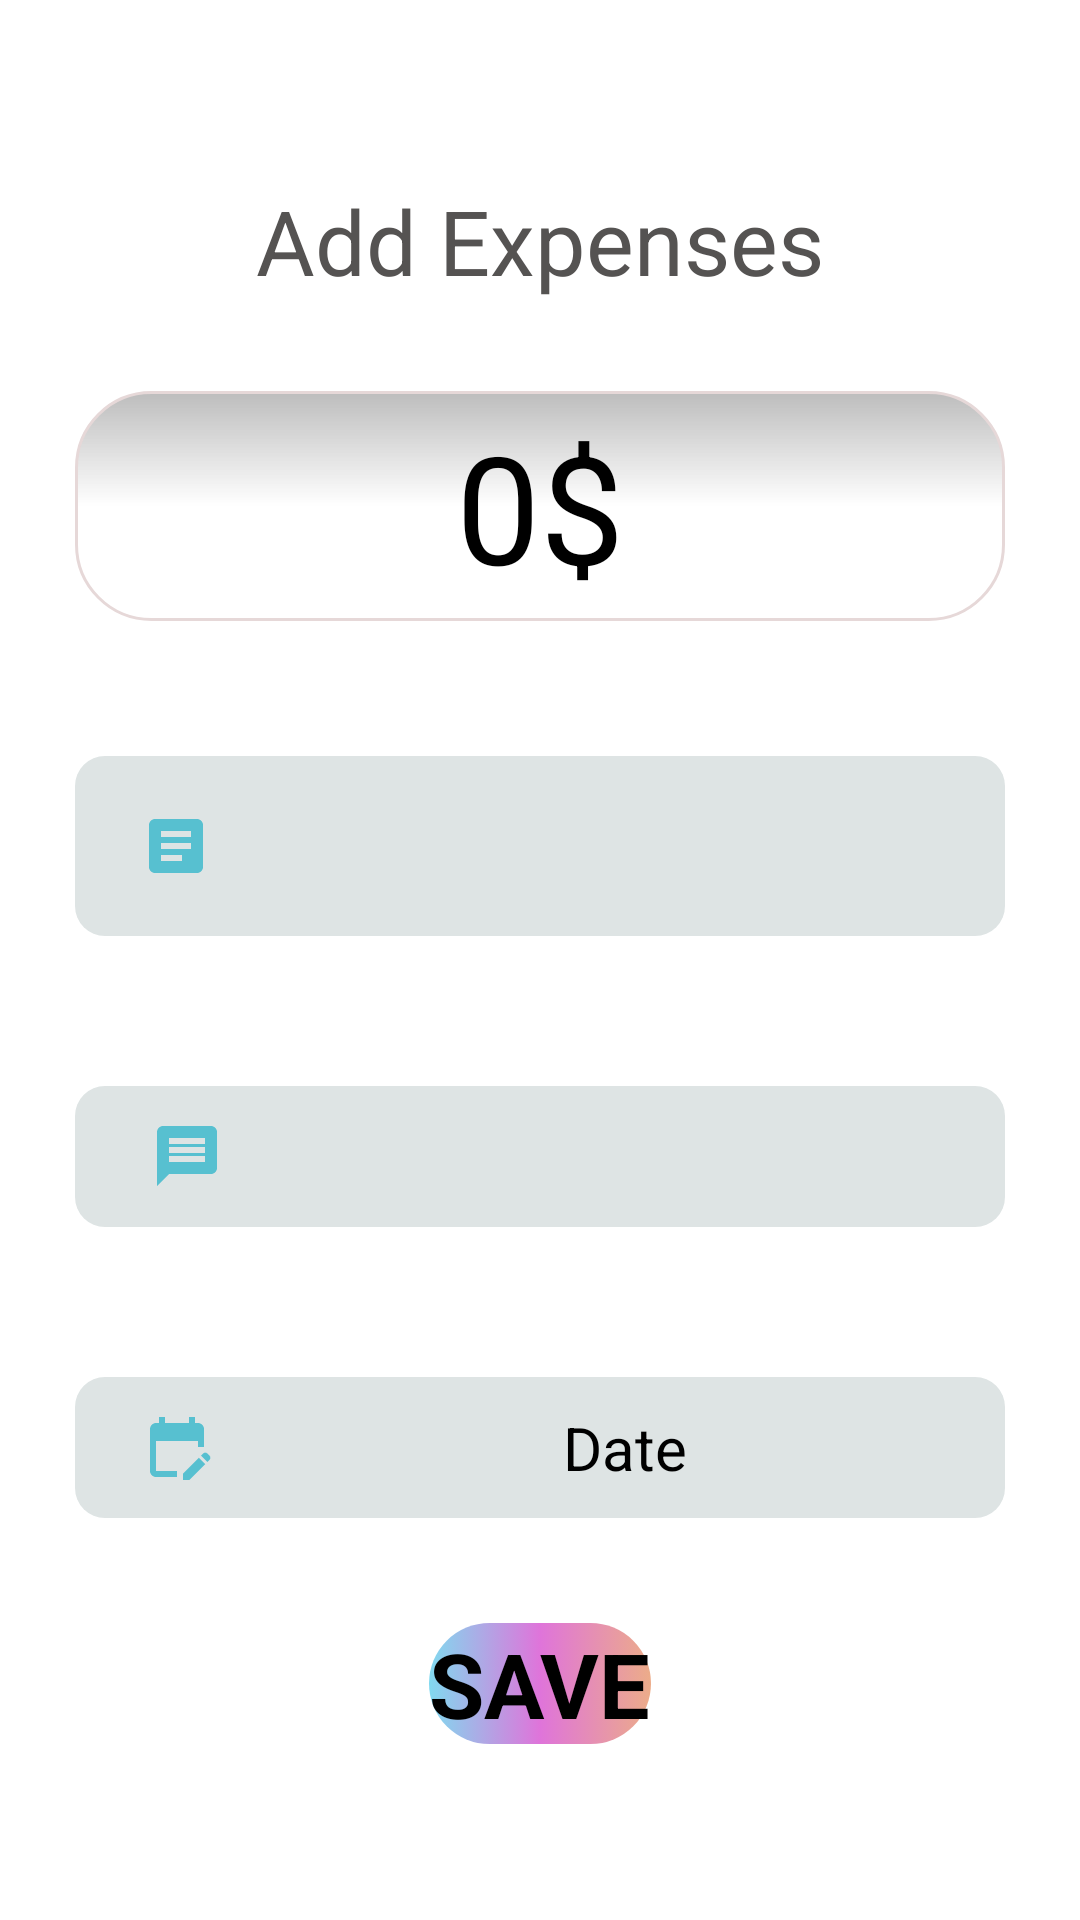

Screen size 1080 x 1920. Icon name, then its box in pixels as [x1, y1, x2, y2]:
edit calendar: [150, 1417, 211, 1480]
message: [157, 1126, 217, 1186]
